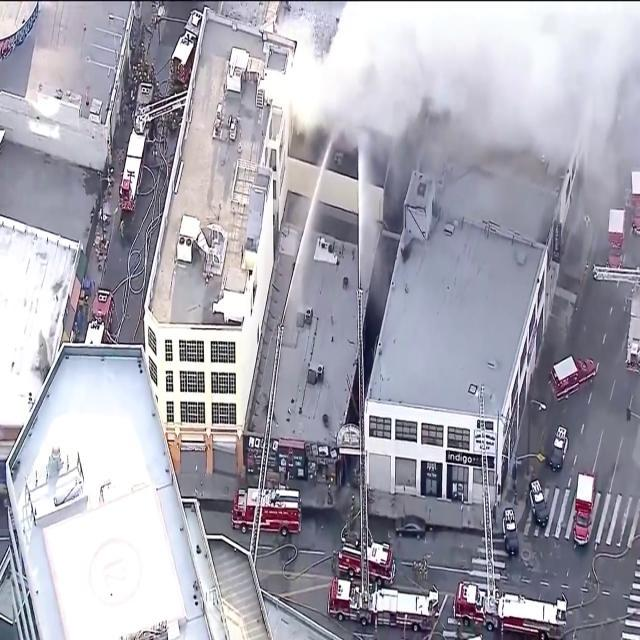Smoke: (273, 1, 640, 154)
